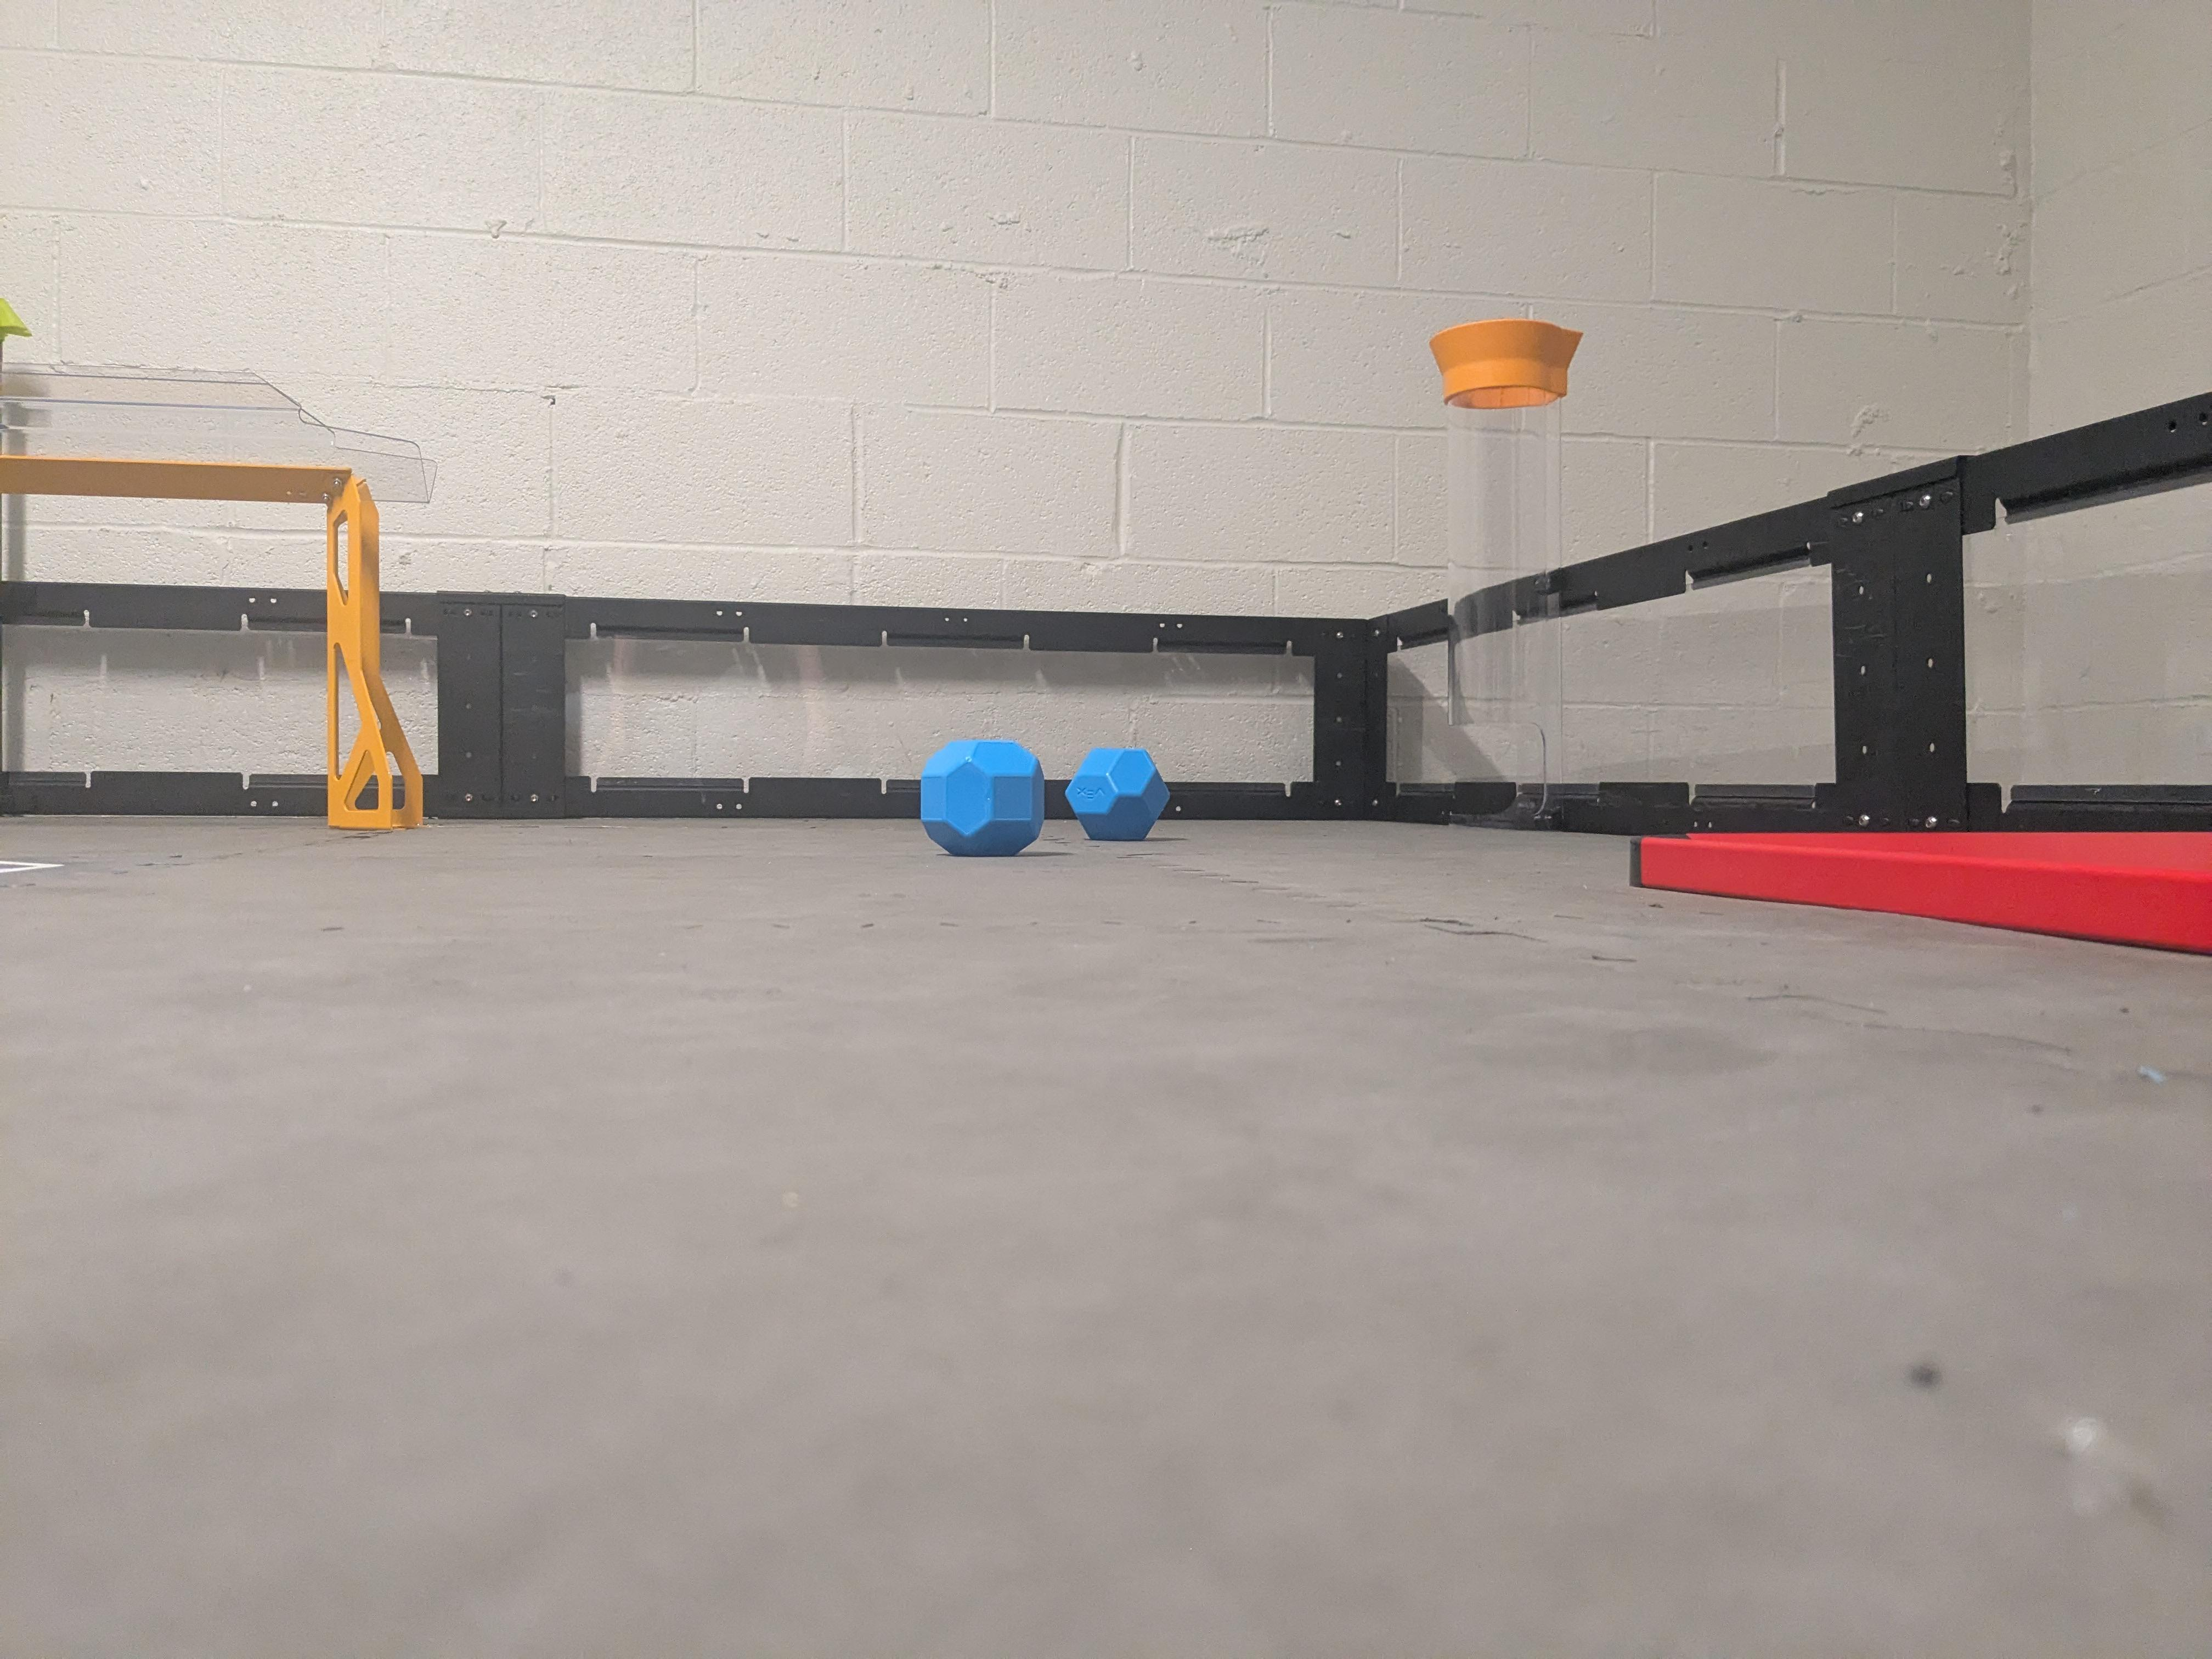Vex-Pieces-BLUE: (916, 741, 1146, 852)
